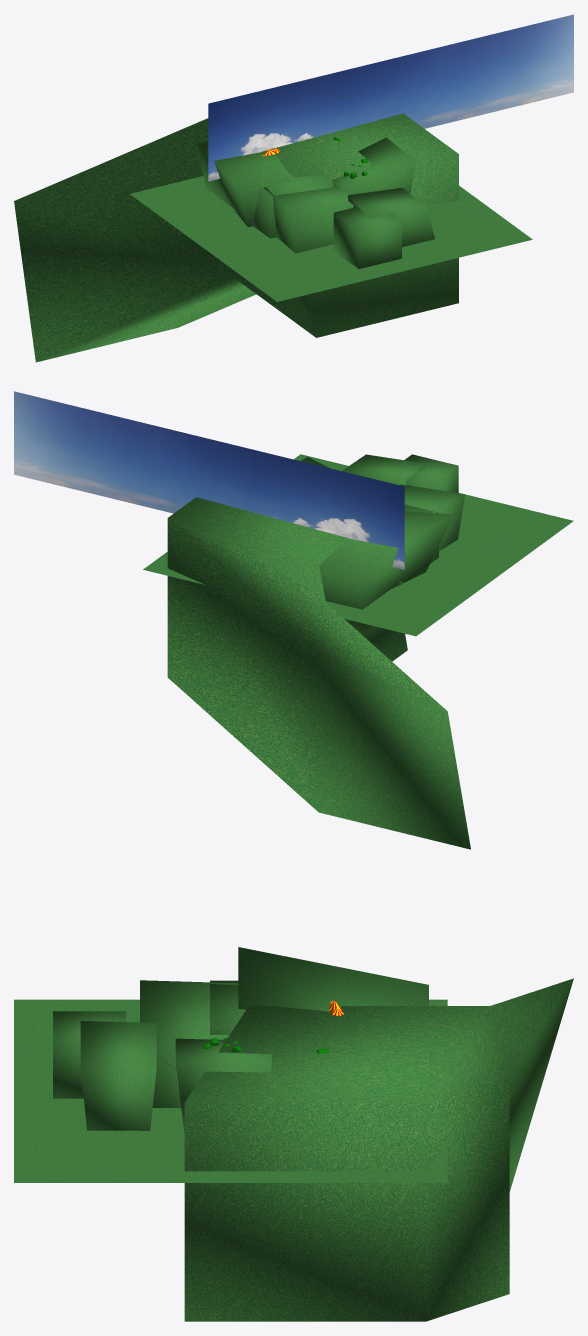
The model's file is cutscene1.gltf.
3 views of the same model, one above another, from view 1: azimuth 30°, elevation 25°; view 2: azimuth 150°, elevation 25°; view 3: azimuth 270°, elevation 25° (orthographic). The views are drawn at different scales.
Parts seen in each view (by area): view 1: Cube.026, sky 3, Plane, Cube.001, Cube.004, Cube.009, Cube.002, Cube.005, Cube; view 2: Cube.026, sky 3, Plane, Cube.004, Cube.001, Cube.005, Cube.009; view 3: Cube.026, Plane, Cube.005, Cube.004, Cube.001, Cube.002, Cube.009, Cube.
Part boxes in pixels (x1=…): Cube.026: x1=14, y1=113, x2=458, y2=362; sky 3: x1=208, y1=14, x2=573, y2=181; Plane: x1=130, y1=176, x2=532, y2=301; Cube.001: x1=264, y1=183, x2=363, y2=253; Cube.004: x1=197, y1=141, x2=299, y2=227; Cube.009: x1=333, y1=207, x2=401, y2=268; Cube.002: x1=332, y1=137, x2=416, y2=194; Cube.005: x1=348, y1=187, x2=434, y2=246; Cube: x1=233, y1=174, x2=333, y2=238; Cube.026: x1=167, y1=497, x2=470, y2=849; sky 3: x1=14, y1=391, x2=404, y2=569; Plane: x1=143, y1=454, x2=573, y2=636; Cube.004: x1=319, y1=511, x2=453, y2=633; Cube.001: x1=400, y1=484, x2=464, y2=550; Cube.005: x1=342, y1=454, x2=425, y2=485; Cube.009: x1=404, y1=454, x2=458, y2=493; Cube.026: x1=184, y1=978, x2=573, y2=1321; Plane: x1=14, y1=999, x2=447, y2=1182; Cube.005: x1=80, y1=1021, x2=156, y2=1130; Cube.004: x1=238, y1=947, x2=428, y2=1011; Cube.001: x1=140, y1=980, x2=238, y2=1107; Cube.002: x1=175, y1=1038, x2=271, y2=1133; Cube.009: x1=53, y1=1011, x2=126, y2=1098; Cube: x1=210, y1=980, x2=245, y2=1034.
Size of what is drawn, in the model's own units: 910 by 487 by 622.
11 materials, 2 textured.
